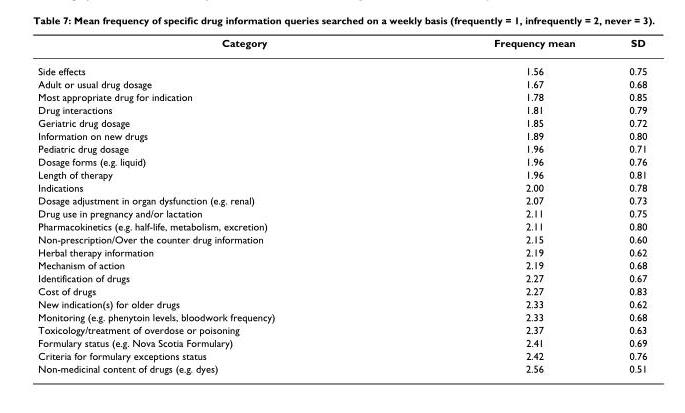table: (37, 36, 646, 374)
table column: (37, 36, 383, 374), (383, 36, 601, 374), (601, 36, 646, 374)
table column header: (37, 36, 646, 56)
table row: (37, 56, 646, 77), (37, 36, 646, 56), (37, 77, 646, 90), (37, 102, 646, 115), (37, 115, 646, 128), (37, 128, 646, 141), (37, 141, 646, 154), (37, 154, 646, 167), (37, 167, 646, 180), (37, 180, 646, 193), (37, 193, 646, 206), (37, 206, 646, 219), (37, 219, 646, 232), (37, 232, 646, 245), (37, 245, 646, 258), (37, 258, 646, 271), (37, 271, 646, 284), (37, 284, 646, 297), (37, 297, 646, 310), (37, 310, 646, 323), (37, 335, 646, 348), (37, 348, 646, 361), (37, 361, 646, 374), (37, 90, 646, 102), (37, 323, 646, 335)
